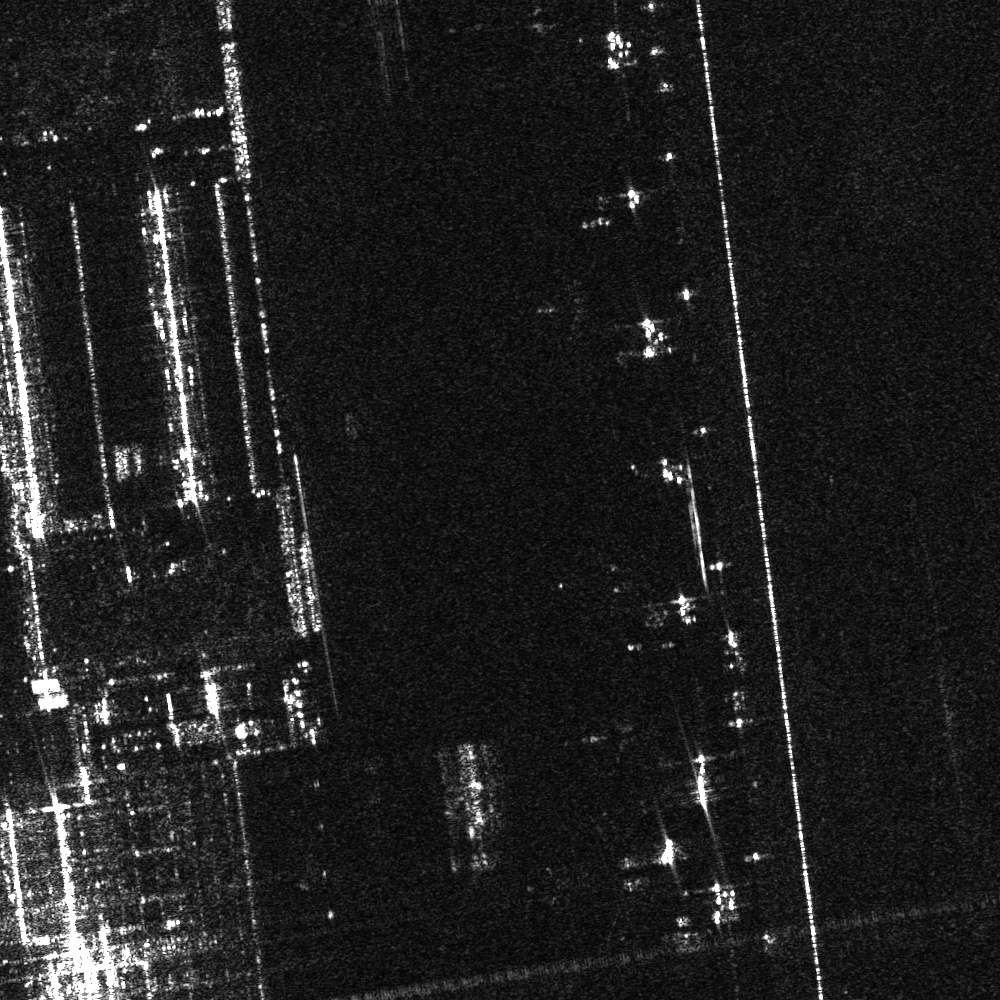A220: (572, 704, 640, 770)
Boeing787: (525, 270, 607, 344)
